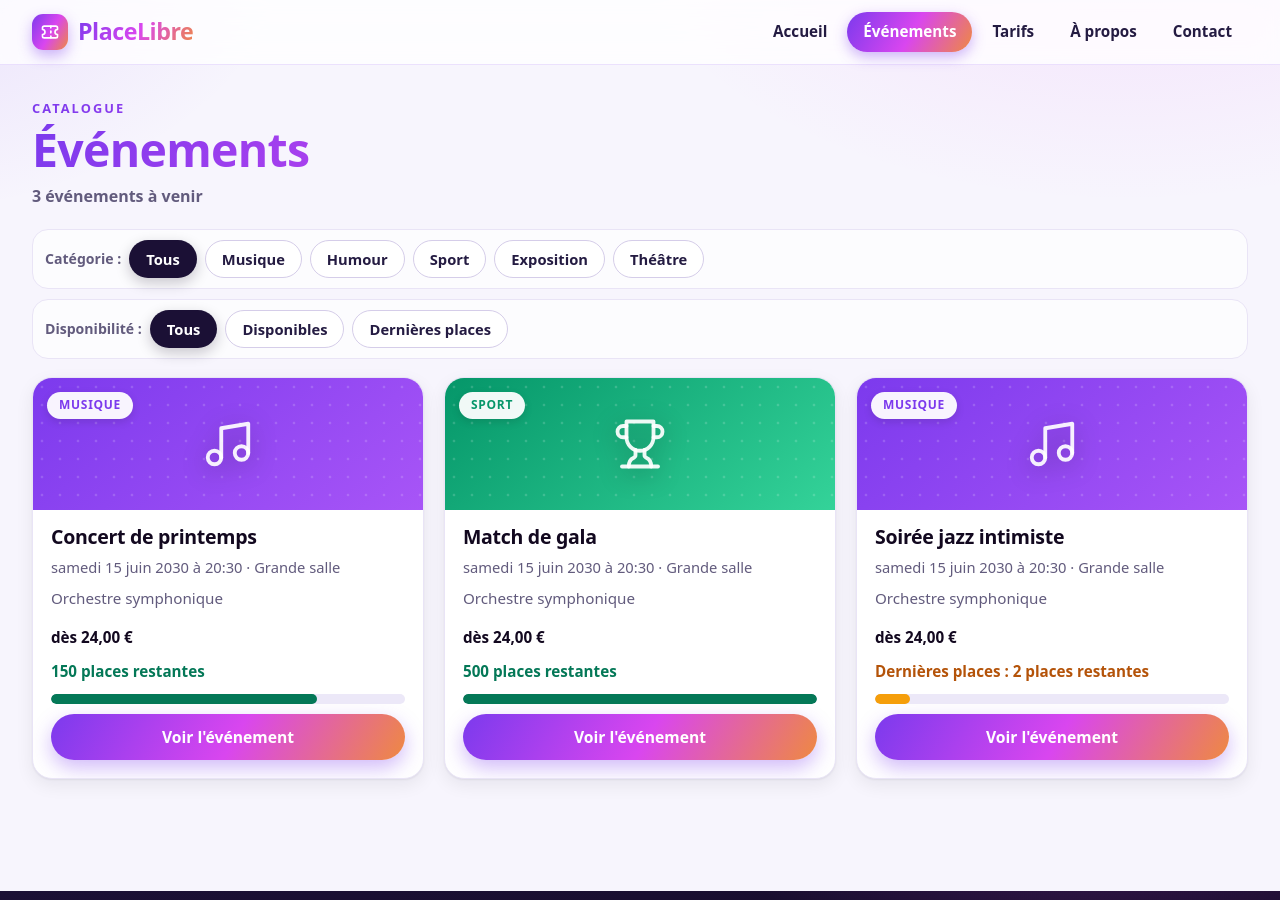
Test: page des événements (/evenements) › filtre par catégorie
The width and height of the screenshot is (1280, 900).
Expected: the link "Match de gala" is shown, [463,523,597,550]
Click the button "Sport". click: point(450, 259)
box: [413,240,486,278]
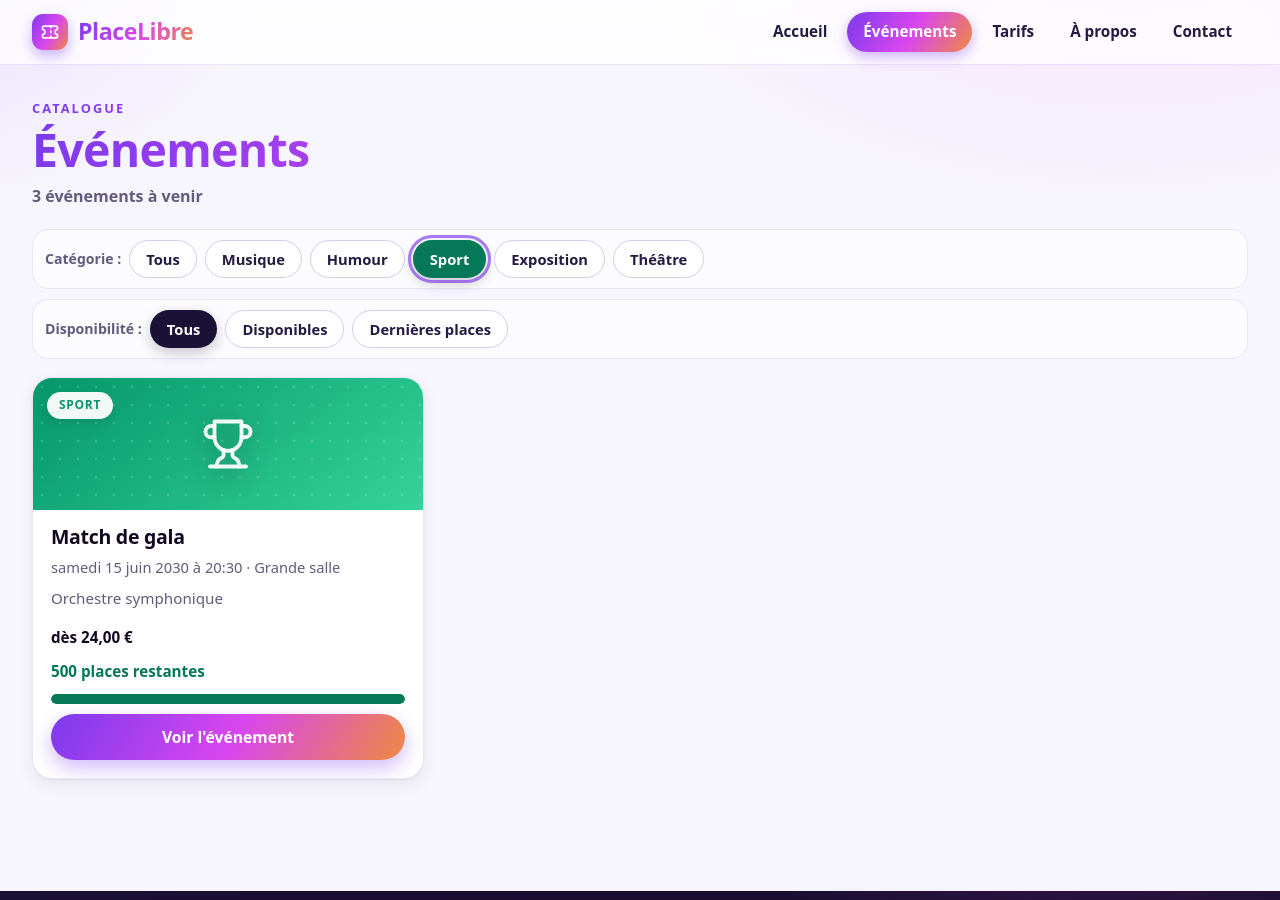
Expected: the link "Match de gala" is shown, [51,523,185,550]
Now the link "Concert de printemps" is gone
Click the button "Musique". click: point(253, 259)
box: [205,240,302,278]
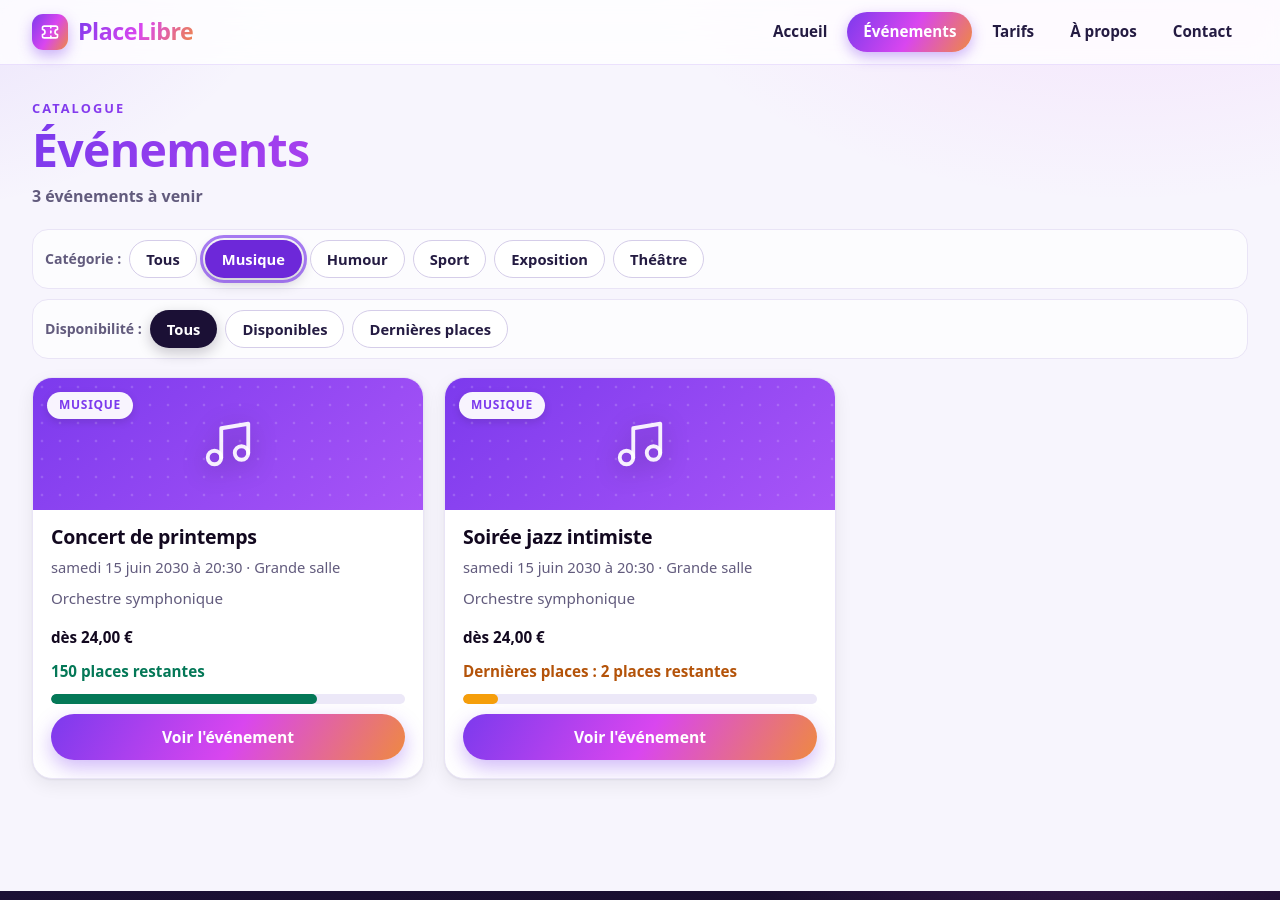
Now the link "Concert de printemps" is shown, box [51,523,257,550]
Now the link "Soirée jazz intimiste" is shown, box [463,523,652,550]
Now the link "Match de gala" is gone
Note: « Tous » du groupe catégorie (il existe aussi dans le groupe disponibilité).
Click the button "Tous" next to "Catégorie :". click: point(163, 259)
box: [129,240,197,278]
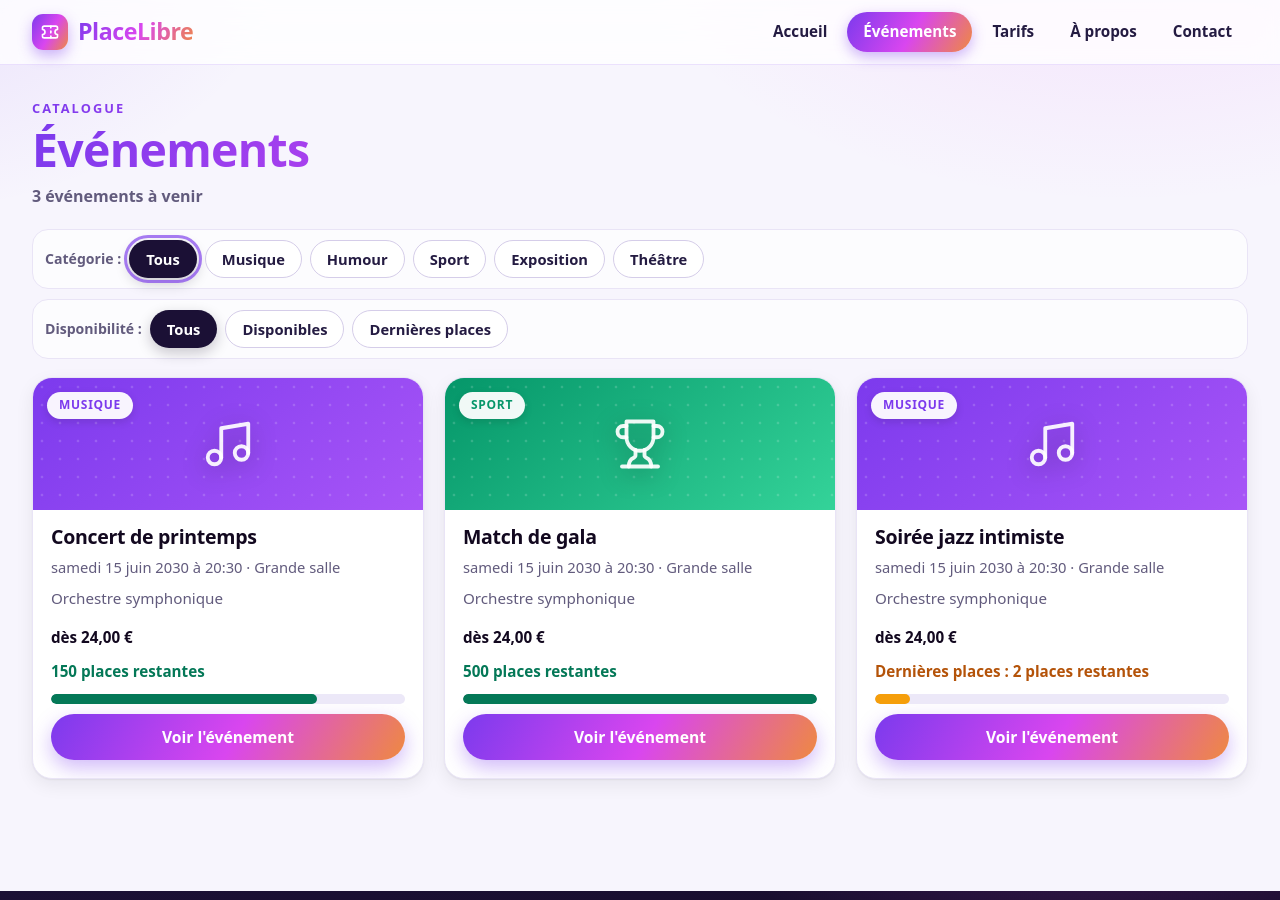
Now the link "Match de gala" is shown, box [463,523,597,550]
